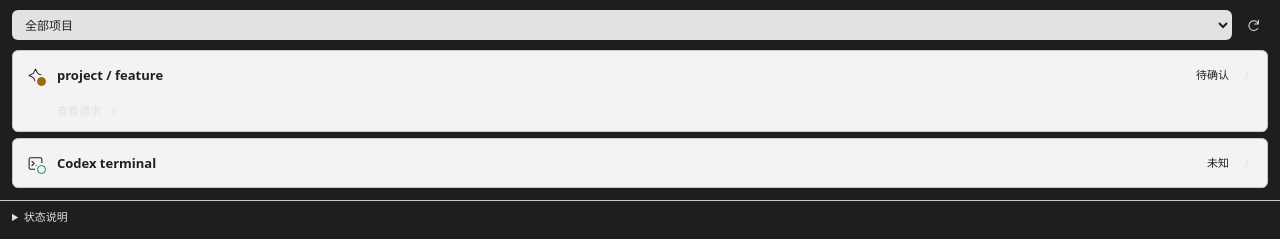
it: 项目会话与任务面板 › 按实际 worktree 目录过滤，主目录不会混入
Select "C:/project/.lyshell-worktrees/feature" in the dropdown at [622, 25], box [12,10,1232,40]
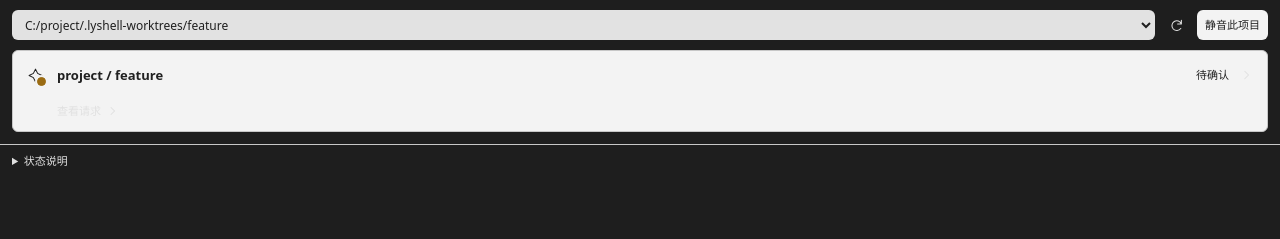
expect the text "project / feature" is shown: met, box [57,66,163,84]
expect the button "Codex terminal" is gone: met
